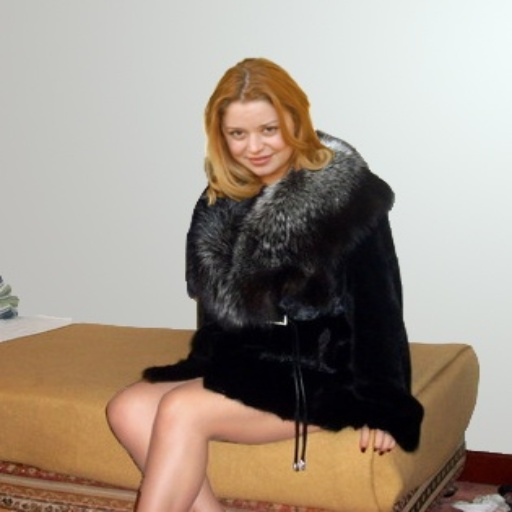hand: (357, 429, 398, 453)
